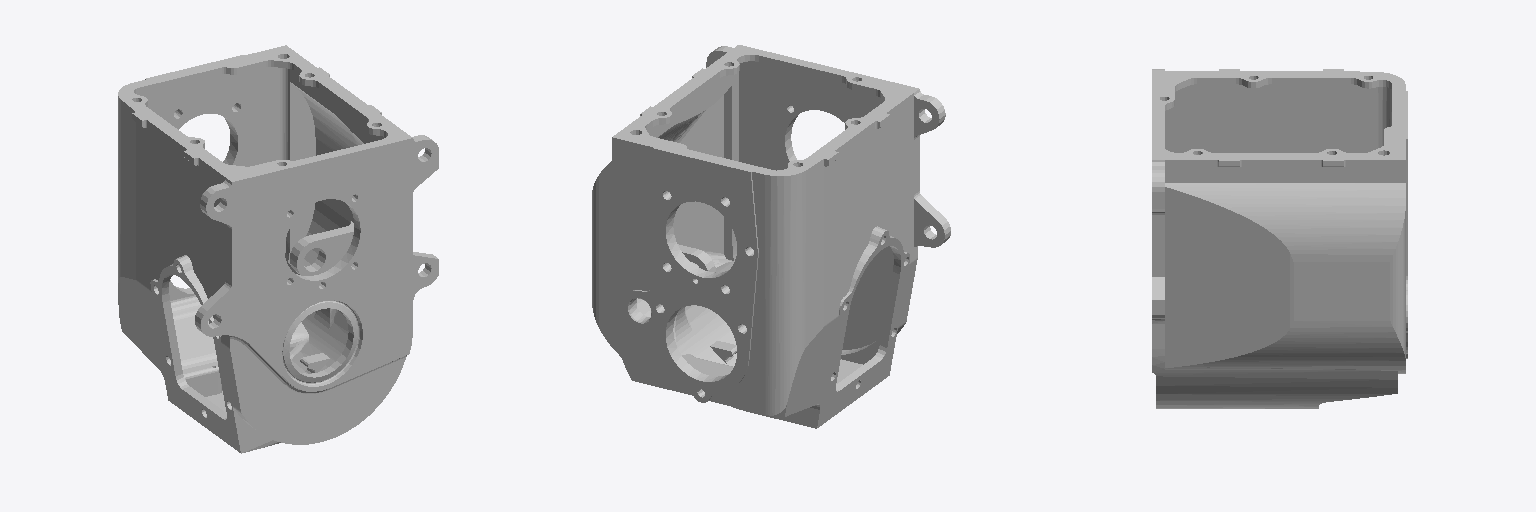
File: 66-67. Картер коробки передач.obj
3 renders of one model, left to right at view 1: azimuth 30°, elevation 25°; view 2: azimuth 150°, elevation 25°; view 3: azimuth 270°, elevation 25°, orthographic.
Parts seen in each view (by area): view 1: Твердое тело2; view 2: Твердое тело2; view 3: Твердое тело2.
Boxes of the visible parts, x1,y1,x2,y2 form: Твердое тело2: [118, 45, 438, 453]; Твердое тело2: [592, 45, 950, 428]; Твердое тело2: [1152, 69, 1407, 408].
Bounding box in the file's own units: 266 × 303 × 247.